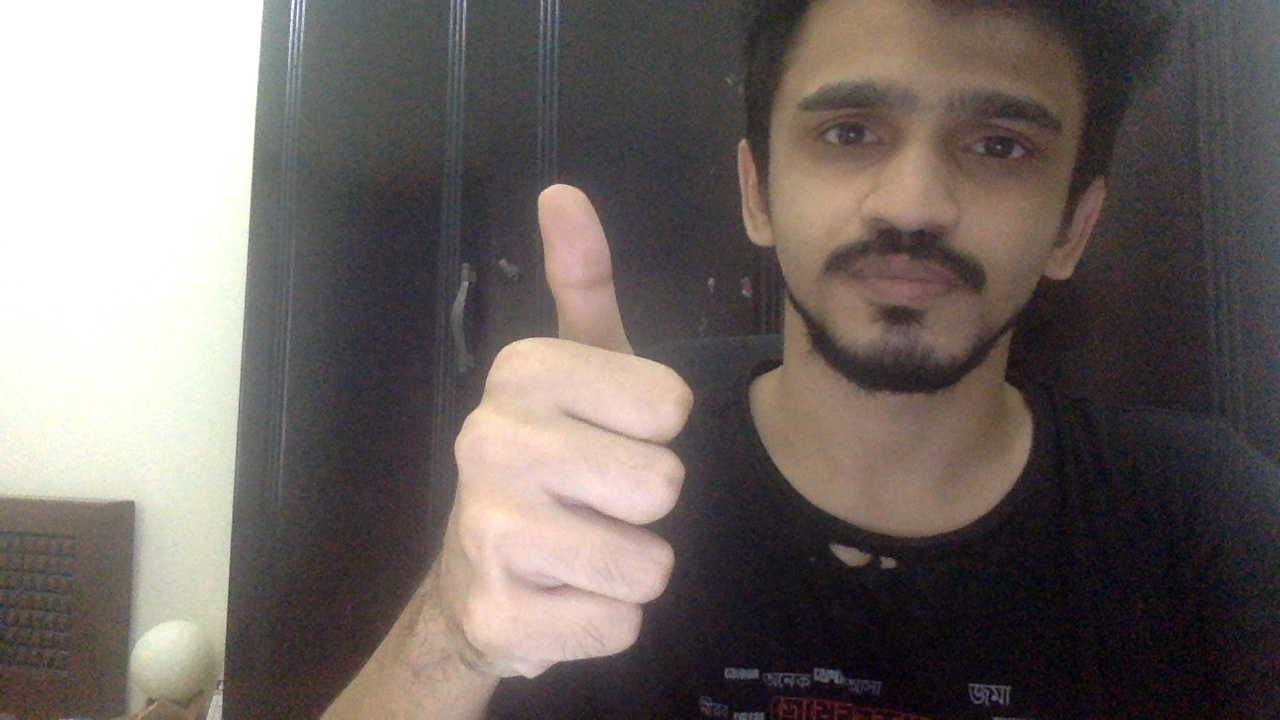good: (399, 178, 682, 686)
